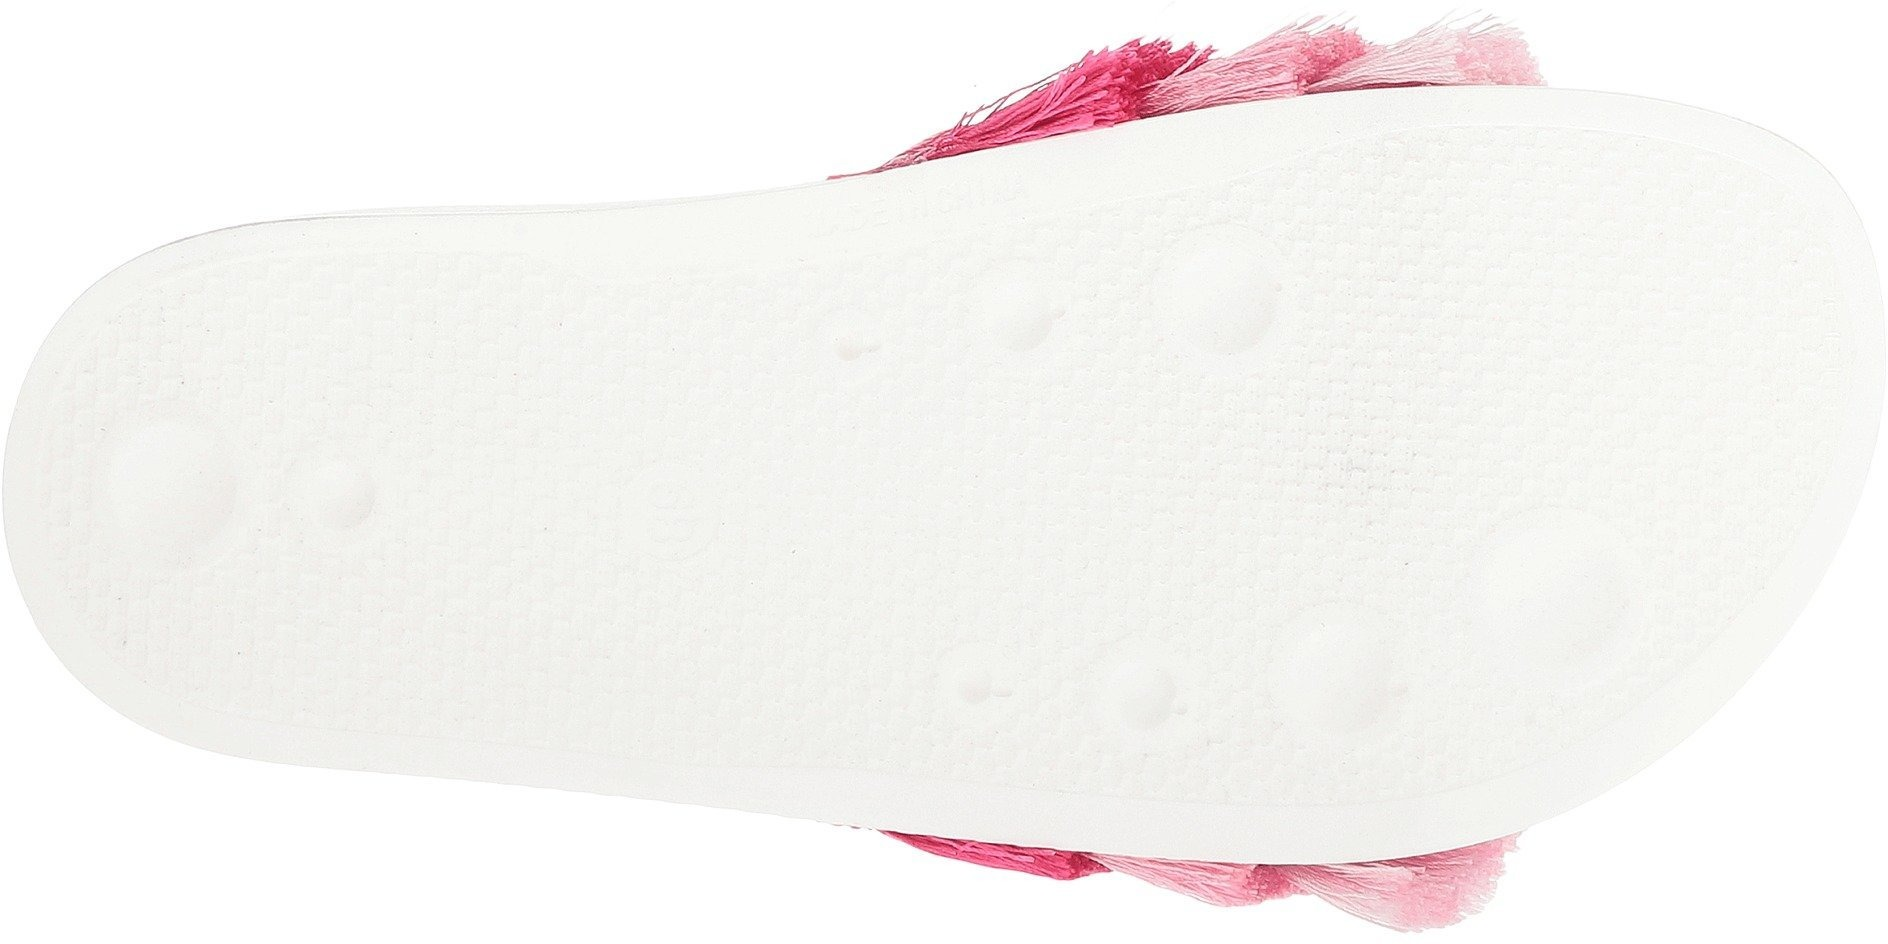circle: (1455, 479, 1683, 713), (949, 238, 1105, 411), (1074, 619, 1213, 773), (606, 450, 743, 583)
text: (606, 450, 743, 583), (938, 165, 1043, 222), (795, 201, 898, 256)
